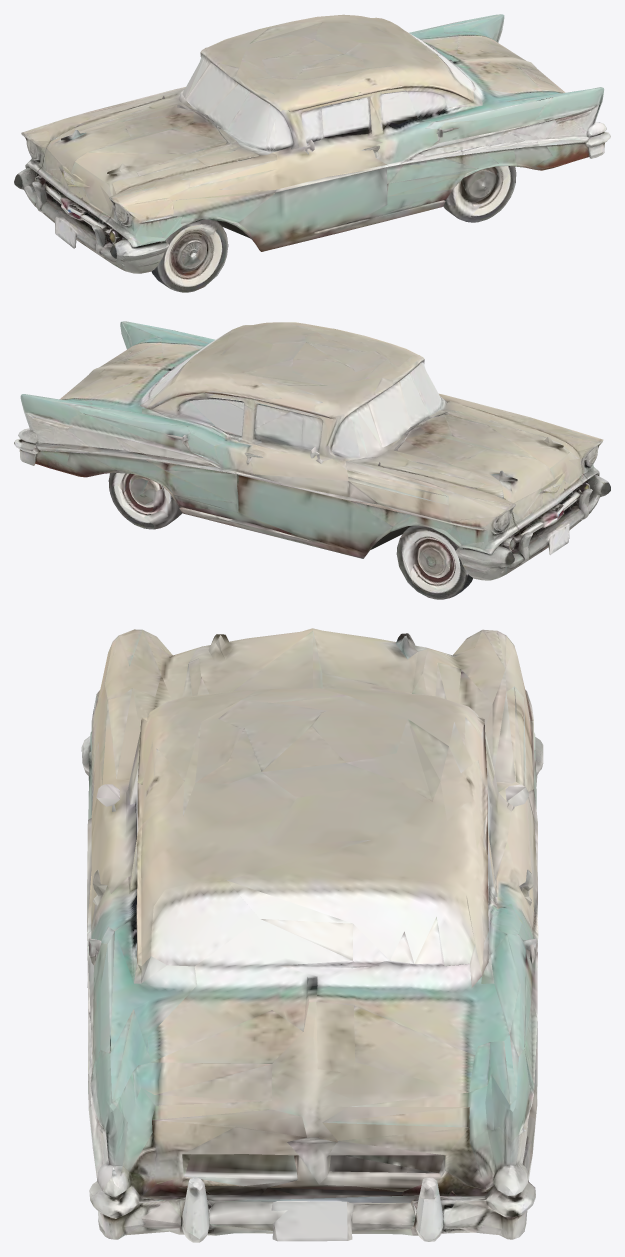
The model's file is sedan_classic.glb.
3 views of the same model, one above another, from view 1: azimuth 30°, elevation 25°; view 2: azimuth 150°, elevation 25°; view 3: azimuth 270°, elevation 25° (orthographic). The views are drawn at different scales.
Parts seen in each view (by area): view 1: Mesh_0; view 2: Mesh_0; view 3: Mesh_0.
Part boxes in pixels (box(x1,y1,x2,y2)): Mesh_0: box(14, 14, 610, 292); Mesh_0: box(14, 321, 610, 599); Mesh_0: box(81, 628, 543, 1242).
Size of the model in its own units: 1.9 by 0.6011 by 0.7615.
Materials: 1 (1 with a texture image).
